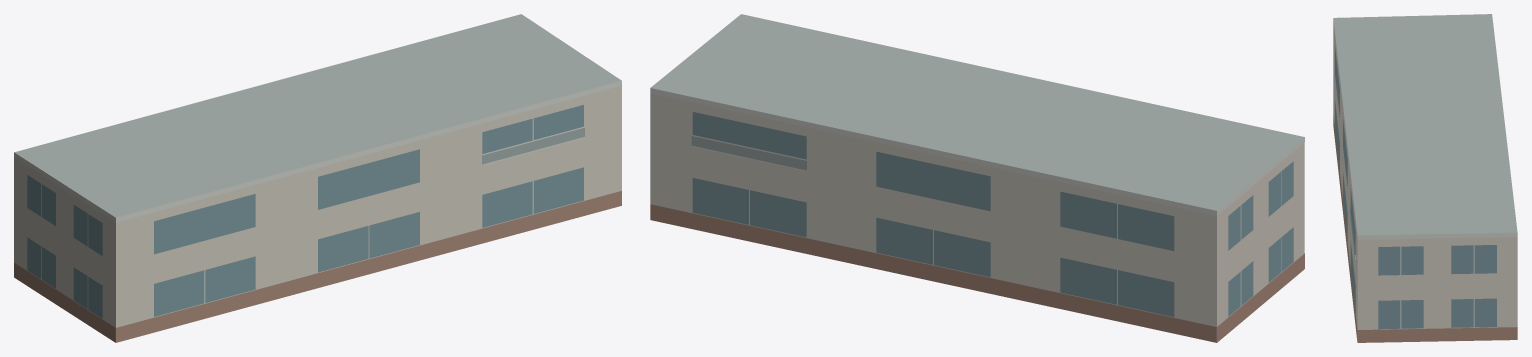
File: survey-upis-32501618.glb
3 renders of one model, left to right at view 1: azimuth 30°, elevation 25°; view 2: azimuth 150°, elevation 25°; view 3: azimuth 270°, elevation 25°, orthographic. The views are drawn at different scales.
Parts seen in each view (by area): view 1: survey-upis-32501618.tmp; view 2: survey-upis-32501618.tmp; view 3: survey-upis-32501618.tmp.
Part boxes in pixels (x1,y1,x2,y2): survey-upis-32501618.tmp: (14,14,621,342); survey-upis-32501618.tmp: (650,14,1304,342); survey-upis-32501618.tmp: (1333,14,1517,342).
Size of the model in its own units: 27.01 by 6.1 by 9.5.
